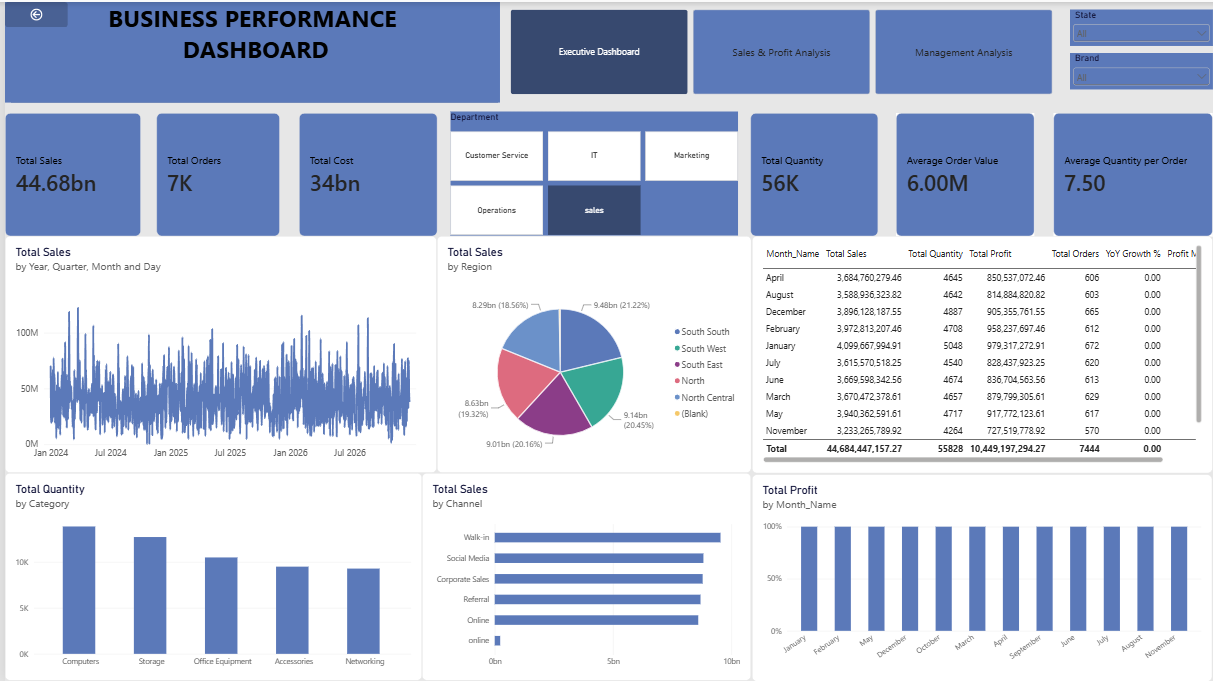

The dashboard page shown, as its layout file describes it:
{"tool":"powerbi","page":{"name":"Executive Dashboard","canvas":[1920,1080],"ordinal":0},"visuals":[{"type":"shape","box":[10,0,775,160],"z":0},{"type":"textbox","box":[0,0,787.5,160],"z":1000},{"type":"pageNavigator","box":[805,12.5,862.5,135],"z":2000},{"type":"cardVisual","fields":{"Data":["Fact_Sales.Total Sales"]},"box":[0,176.7,216.7,196.7],"z":3000},{"type":"cardVisual","fields":{"Data":["Fact_Sales.Total Orders"]},"box":[240,176.7,196.7,196.7],"z":4000},{"type":"cardVisual","fields":{"Data":["Fact_Sales.Total Cost"]},"box":[466.7,176.7,220,196.7],"z":5000},{"type":"cardVisual","fields":{"Data":["Fact_Sales.Total Quantity"]},"box":[1186.7,176.7,203.3,196.7],"z":6000},{"type":"cardVisual","fields":{"Data":["Fact_Sales.Average Order Value"]},"box":[1416.7,176.7,220,196.7],"z":7000},{"type":"cardVisual","fields":{"Data":["Fact_Sales.Average Quantity per Order"]},"box":[1666.7,176.7,253.3,196.7],"z":8000},{"type":"slicer","fields":{"Values":["Dim_Customers.State"]},"box":[1693,13,227,58],"z":9000},{"type":"slicer","fields":{"Values":["Dim_Products.Brand"]},"box":[1693,80,227,58],"z":10000},{"type":"lineChart","fields":{"Category":["Dim_Date.Date.Variation.Date Hierarchy.Year","Dim_Date.Date.Variation.Date Hierarchy.Quarter","Dim_Date.Date.Variation.Date Hierarchy.Month","Dim_Date.Date.Variation.Date Hierarchy.Day"],"Y":["Fact_Sales.Total Sales"]},"box":[0,373.3,686.7,376.7],"z":11000},{"type":"pieChart","fields":{"Category":["Dim_Customers.Region"],"Y":["Fact_Sales.Total Sales"]},"box":[686.7,373.3,500,376.7],"z":12000},{"type":"clusteredColumnChart","fields":{"Category":["Dim_Products.Category"],"Y":["Fact_Sales.Total Quantity"]},"box":[0,750,663.3,330],"z":13000},{"type":"tableEx","fields":{"Values":["Dim_Date.Month_Name","Fact_Sales.Total Sales","Fact_Sales.Total Quantity","Fact_Sales.Total Profit","Fact_Sales.Total Orders","Fact_Sales.YoY Growth %","Fact_Sales.Profit Margin %"]},"box":[1187.5,372.5,732.5,377.5],"z":14000},{"type":"clusteredBarChart","fields":{"Category":["Fact_Sales.Channel"],"Y":["Fact_Sales.Total Sales"]},"box":[663.3,750,523.3,330],"z":15000},{"type":"hundredPercentStackedColumnChart","fields":{"Category":["Dim_Date.Month_Name"],"Y":["Fact_Sales.Total Profit"]},"box":[1188,751,732,329],"z":16000},{"type":"advancedSlicerVisual","fields":{"Values":["Dim_Employees.Department"]},"box":[707.5,175,457.5,197.5],"z":17000},{"type":"actionButton","box":[0,0,100,40],"z":17001}]}

Visuals, with their boxes in screenshot pixels (x1, y1, x2, y2), scaled from the page's 1920x1080 canvas onto the 1213x681 screenshot:
shape: [6,0,496,101]
textbox: [0,0,498,101]
pageNavigator: [509,8,1053,93]
cardVisual - Fact_Sales.Total Sales: [0,111,137,235]
cardVisual - Fact_Sales.Total Orders: [152,111,276,235]
cardVisual - Fact_Sales.Total Cost: [295,111,434,235]
cardVisual - Fact_Sales.Total Quantity: [750,111,878,235]
cardVisual - Fact_Sales.Average Order Value: [895,111,1034,235]
cardVisual - Fact_Sales.Average Quantity per Order: [1053,111,1212,235]
slicer - Dim_Customers.State: [1070,8,1212,45]
slicer - Dim_Products.Brand: [1070,50,1212,87]
lineChart - Dim_Date.Date.Variation.Date Hierarchy.Year x Dim_Date.Date.Variation.Date Hierarchy.Quarter: [0,235,434,473]
pieChart - Dim_Customers.Region x Fact_Sales.Total Sales: [434,235,750,473]
clusteredColumnChart - Dim_Products.Category x Fact_Sales.Total Quantity: [0,473,419,680]
tableEx - Dim_Date.Month_Name x Fact_Sales.Total Sales: [750,235,1212,473]
clusteredBarChart - Fact_Sales.Channel x Fact_Sales.Total Sales: [419,473,750,680]
hundredPercentStackedColumnChart - Dim_Date.Month_Name x Fact_Sales.Total Profit: [751,474,1212,680]
advancedSlicerVisual - Dim_Employees.Department: [447,110,736,235]
actionButton: [0,0,63,25]
